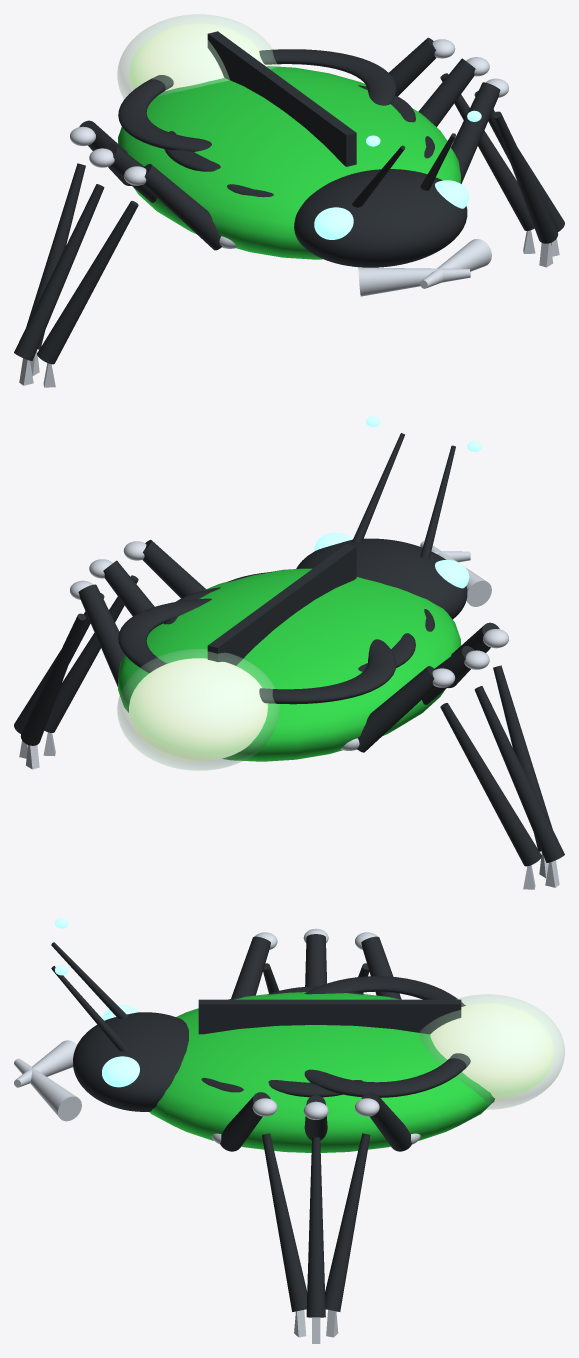
File: enemigo_parasito_cursor.glb
3 renders of one model, top to bottom at view 1: azimuth 30°, elevation 25°; view 2: azimuth 150°, elevation 25°; view 3: azimuth 270°, elevation 25°, orthographic. The views are drawn at different scales.
Visible parts, largest first — view 1: _MeshInstance3D_2, _MeshInstance3D_7, _MeshInstance3D_19, _MeshInstance3D_4, _MeshInstance3D_3, _MeshInstance3D_18, _MeshInstance3D_33, _MeshInstance3D_23, _MeshInstance3D_21, _MeshInstance3D_28, _MeshInstance3D_11, _MeshInstance3D_26 (+14 smaller); view 2: _MeshInstance3D_2, _MeshInstance3D_19, _MeshInstance3D_18, _MeshInstance3D_4, _MeshInstance3D_7, _MeshInstance3D_3, _MeshInstance3D_33, _MeshInstance3D_43, _MeshInstance3D_41, _MeshInstance3D_48, _MeshInstance3D_46, _MeshInstance3D_28 (+11 smaller); view 3: _MeshInstance3D_2, _MeshInstance3D_19, _MeshInstance3D_18, _MeshInstance3D_3, _MeshInstance3D_7, _MeshInstance3D_4, _MeshInstance3D_38, _MeshInstance3D_48, _MeshInstance3D_28, _MeshInstance3D_13, _MeshInstance3D_21, _MeshInstance3D_26 (+9 smaller).
Part boxes in pixels (x1,y1,x2,y2): _MeshInstance3D_2: (118,66,460,259); _MeshInstance3D_7: (294,169,467,267); _MeshInstance3D_19: (117,14,279,98); _MeshInstance3D_4: (118,49,396,151); _MeshInstance3D_3: (207,31,356,166); _MeshInstance3D_18: (129,23,267,90); _MeshInstance3D_33: (14,184,104,360); _MeshInstance3D_23: (37,201,138,364); _MeshInstance3D_21: (143,164,222,250); _MeshInstance3D_28: (493,111,558,243); _MeshInstance3D_11: (358,267,470,296); _MeshInstance3D_26: (451,82,500,183); _MeshInstance3D_2: (118,568,460,761); _MeshInstance3D_19: (117,649,279,770); _MeshInstance3D_18: (129,658,267,761); _MeshInstance3D_4: (118,598,396,704); _MeshInstance3D_7: (296,538,467,619); _MeshInstance3D_3: (207,544,356,665); _MeshInstance3D_33: (474,686,564,862); _MeshInstance3D_43: (440,703,541,866); _MeshInstance3D_41: (356,666,435,752); _MeshInstance3D_48: (20,613,85,745); _MeshInstance3D_46: (78,584,124,686); _MeshInstance3D_28: (44,575,138,732); _MeshInstance3D_2: (149,992,494,1152); _MeshInstance3D_19: (419,994,564,1109); _MeshInstance3D_18: (430,1003,553,1100); _MeshInstance3D_3: (198,999,461,1034); _MeshInstance3D_7: (73,1012,188,1111); _MeshInstance3D_4: (304,976,470,1097); _MeshInstance3D_38: (306,1137,325,1317); _MeshInstance3D_48: (325,1133,370,1311); _MeshInstance3D_28: (262,1133,307,1311); _MeshInstance3D_13: (14,1058,81,1121); _MeshInstance3D_21: (231,936,270,998); _MeshInstance3D_26: (220,1092,270,1151).
Size of the model in its own units: 2.17 by 1.11 by 1.99.
